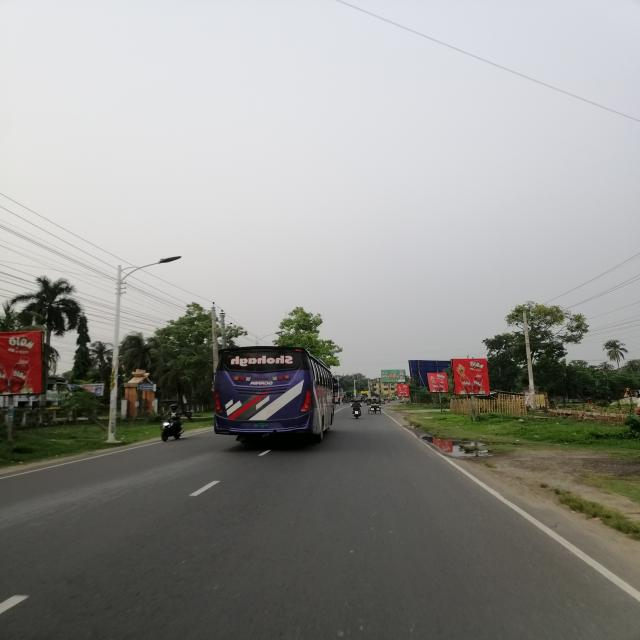Bus: (210, 346, 342, 446)
